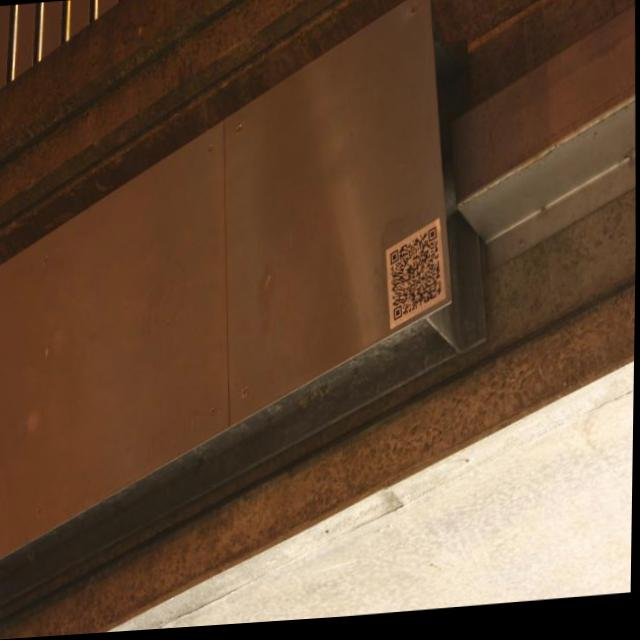qrcode: (390, 232, 445, 327)
